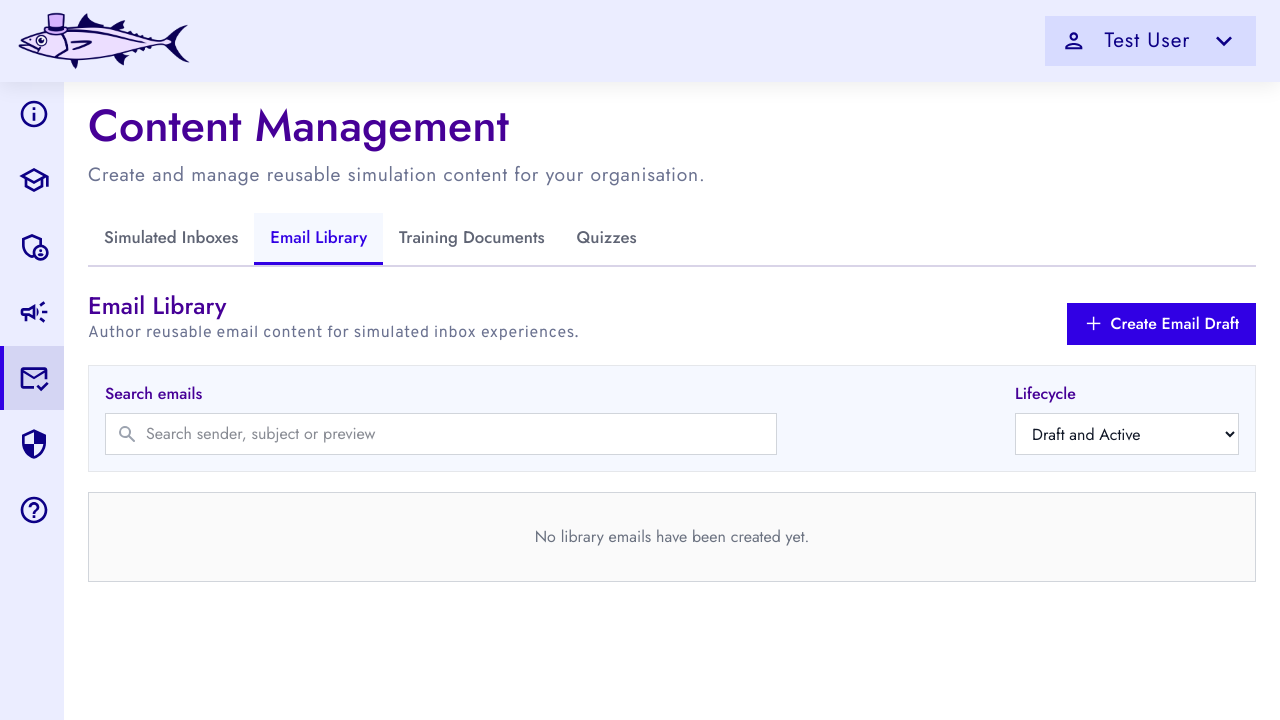
Test: OrganisationContentManagementPage Email Library › requires confirmation before discarding unsaved Email Draft changes
Check: the text "No library emails have been created yet." is shown, box [88,492,1256,582]
Step 1. Click the button "Create Email Draft" → (1162, 324), box [1067,303,1256,345]
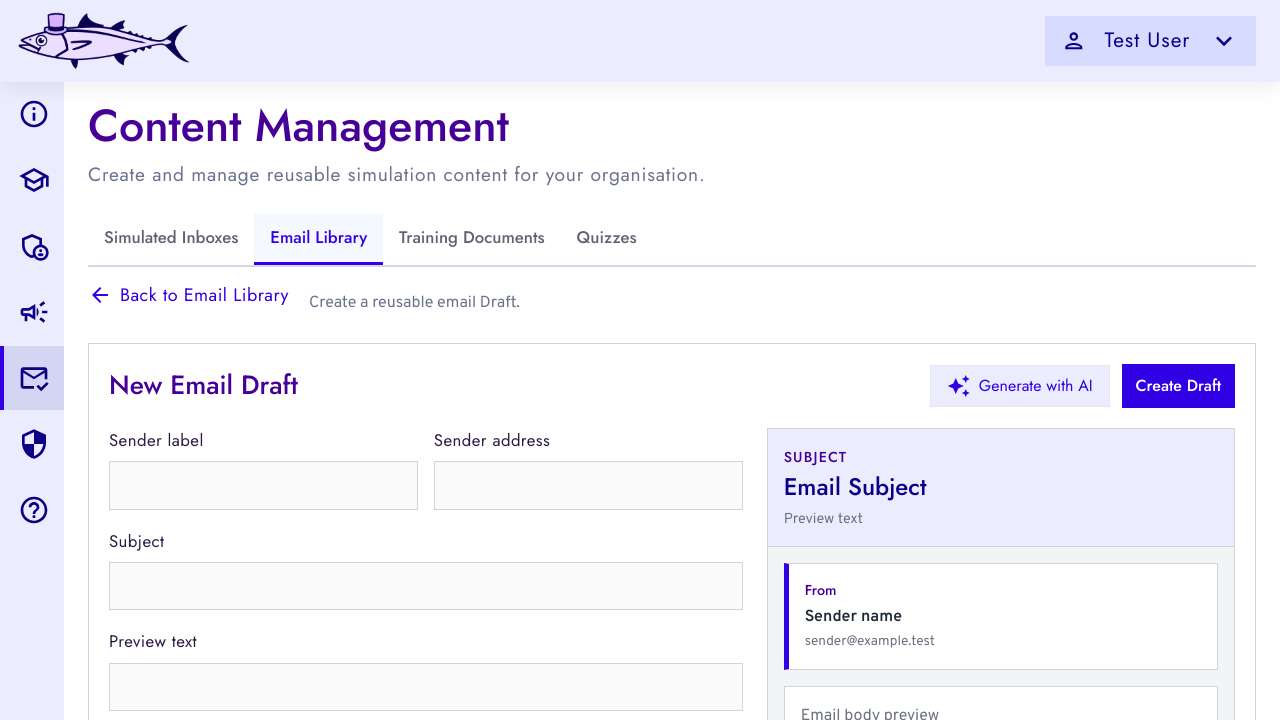
Step 2. Type "Unsaved subject" into the field labelled "Subject" → (426, 586), box [109,562,743,610]
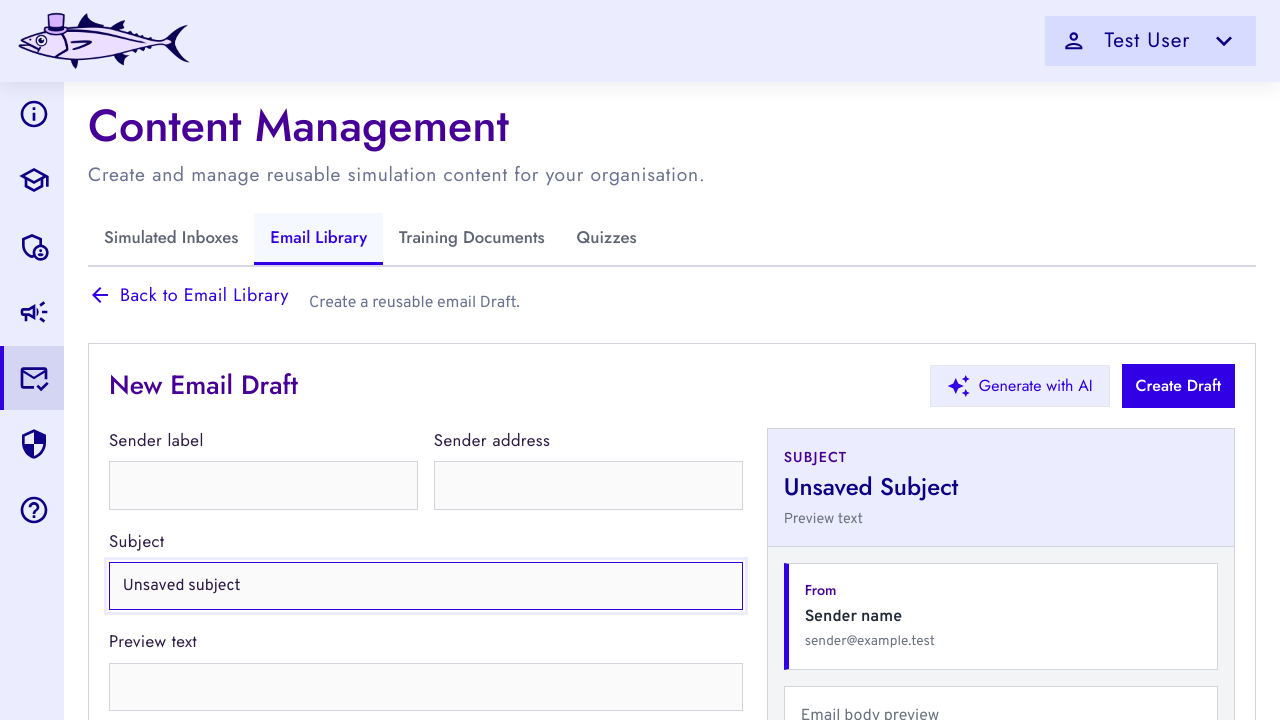
Step 3. Click the link "Simulated Inboxes" → (171, 237), box [104,225,238,249]
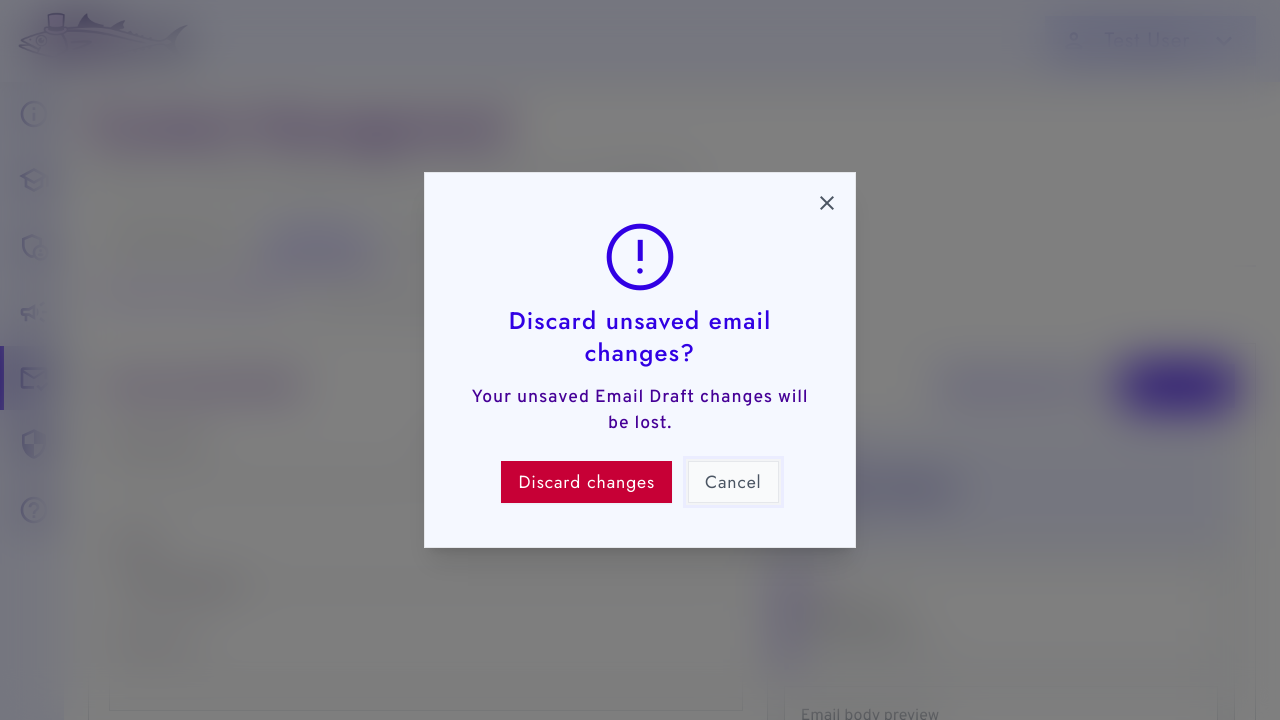
Step 4. Click the button "Cancel" → (733, 482), box [688,461,779,503]
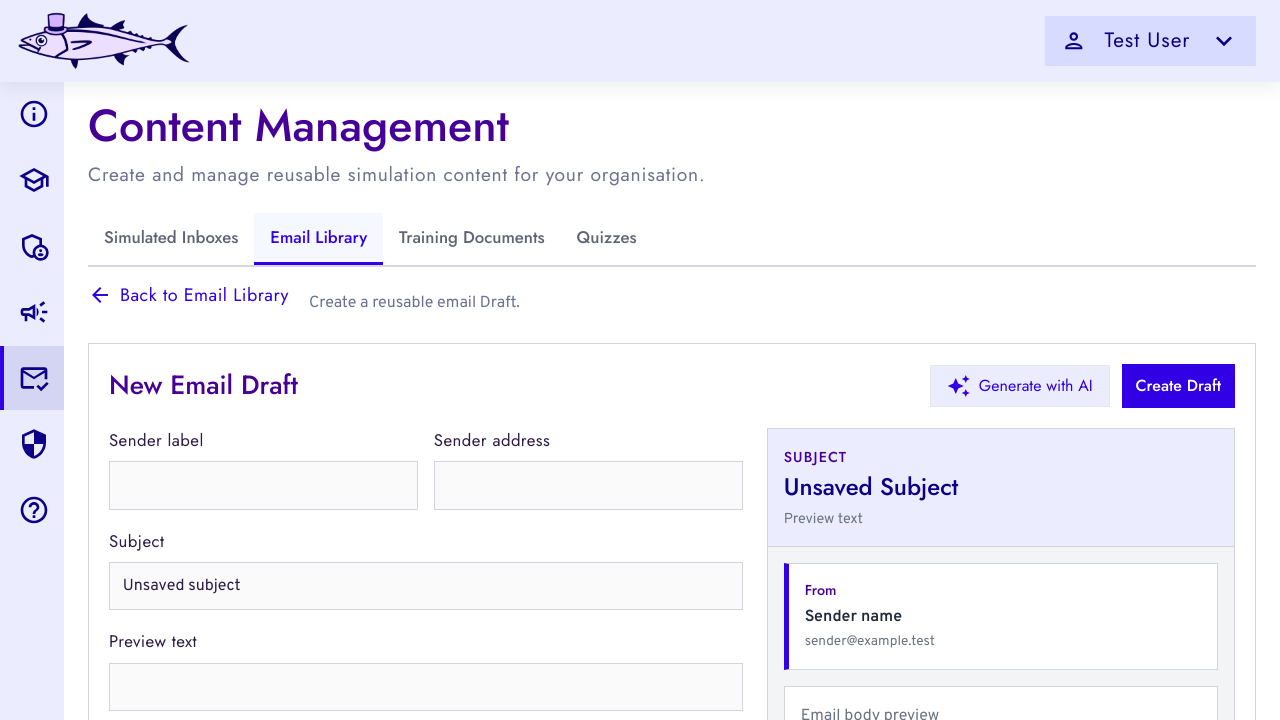
Step 5. Click the button "Back to Email Library" → (188, 295), box [88,281,289,309]
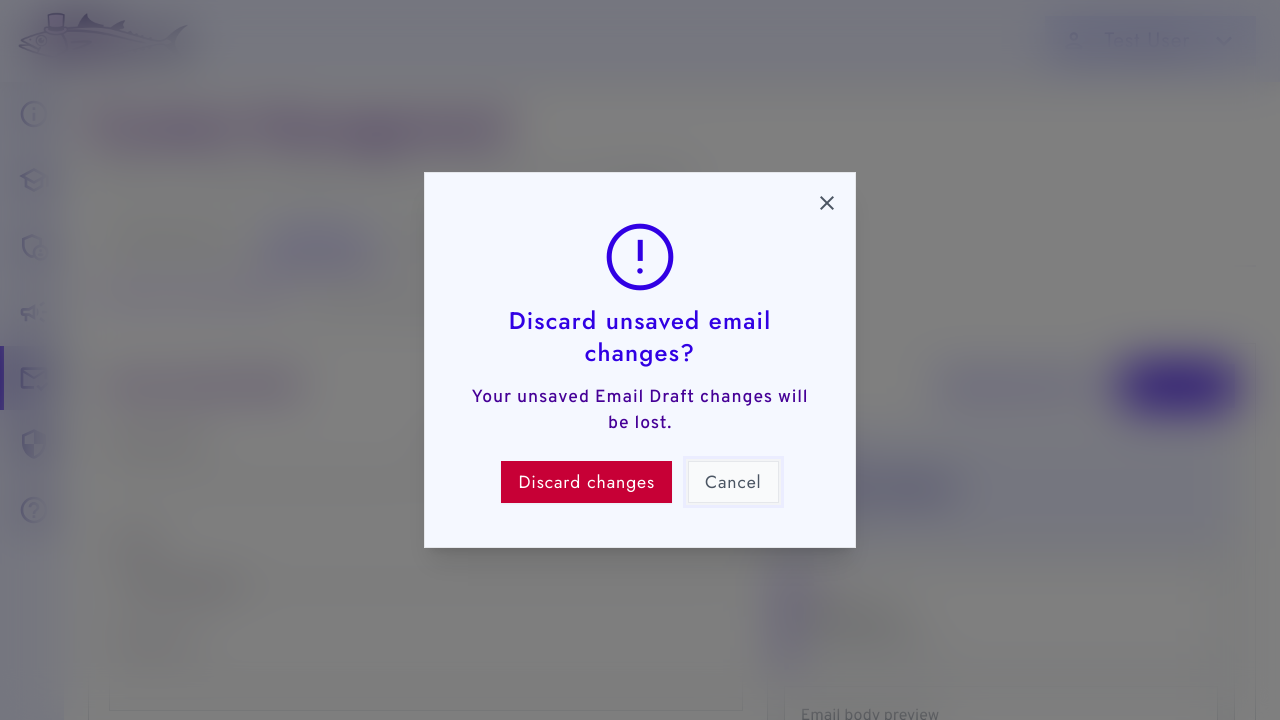
Step 6. Click the button "Discard changes" → (587, 482), box [501,461,672,503]
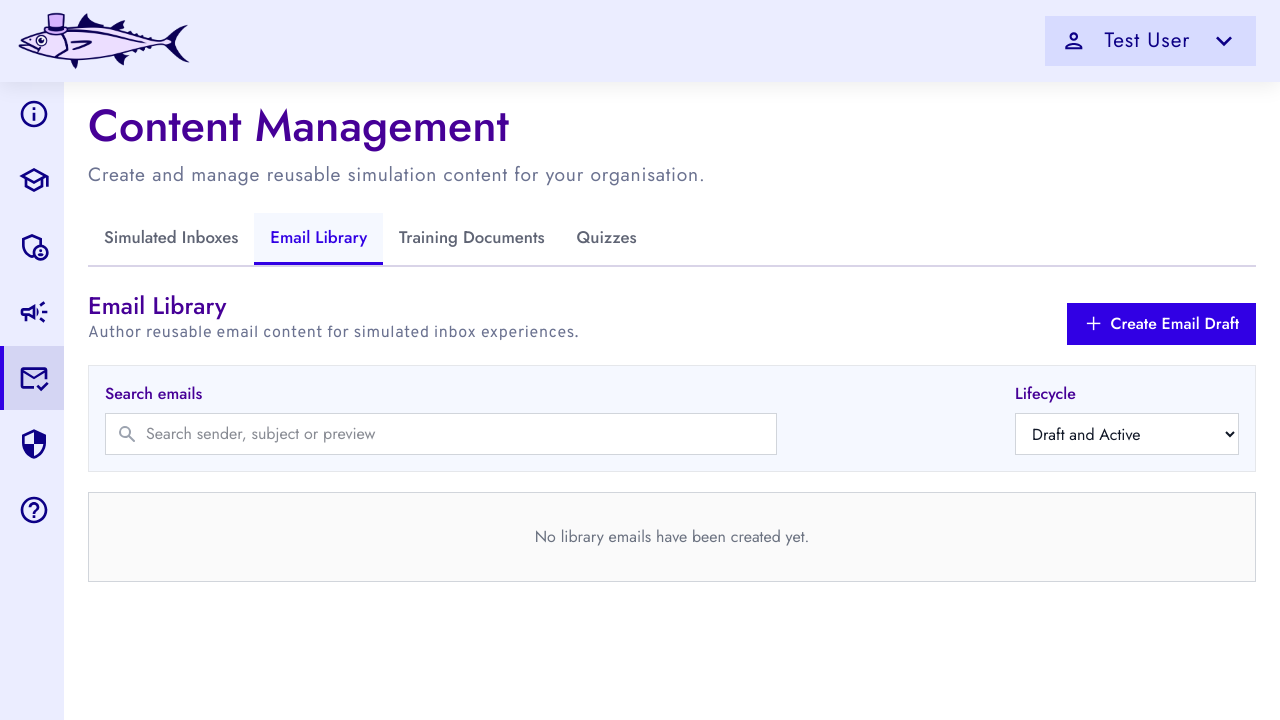
Check: the text "No library emails have been created yet." is shown, box [88,492,1256,582]
